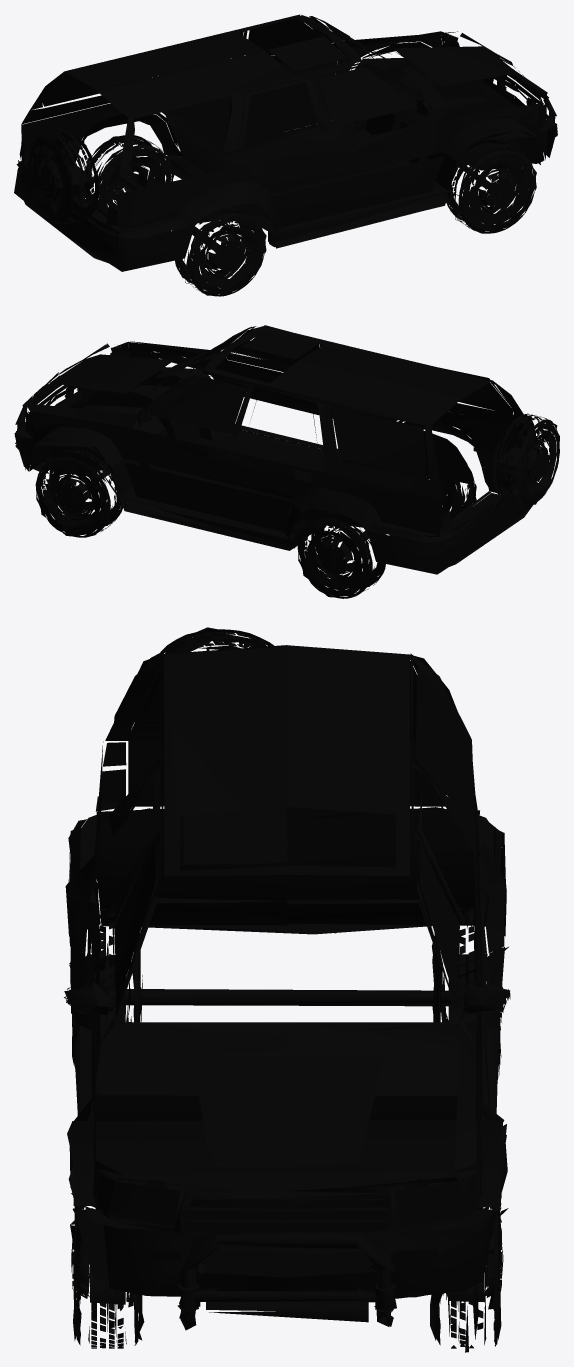
The model's file is v_hilux_lod1.glb.
3 views of the same model, one above another, from view 1: azimuth 30°, elevation 25°; view 2: azimuth 150°, elevation 25°; view 3: azimuth 270°, elevation 25° (orthographic). The views are drawn at different scales.
Parts seen in each view (by area): view 1: v_hilux_lod1; view 2: v_hilux_lod1; view 3: v_hilux_lod1.
Part boxes in pixels (bbox=[...]): v_hilux_lod1: bbox=[14, 14, 557, 296]; v_hilux_lod1: bbox=[14, 325, 559, 598]; v_hilux_lod1: bbox=[64, 627, 510, 1352].
Bounding box in the file's own units: 5.37 × 1.92 × 2.13.
Materials: 1 (1 with a texture image).
